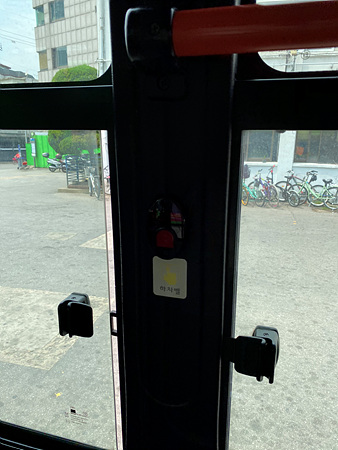bell: (152, 225, 182, 261)
